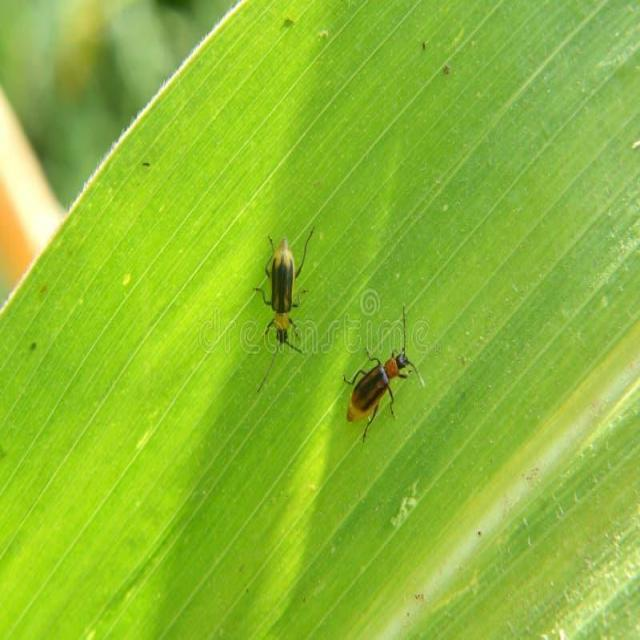trips: (343, 303, 426, 443), (257, 227, 312, 397)
